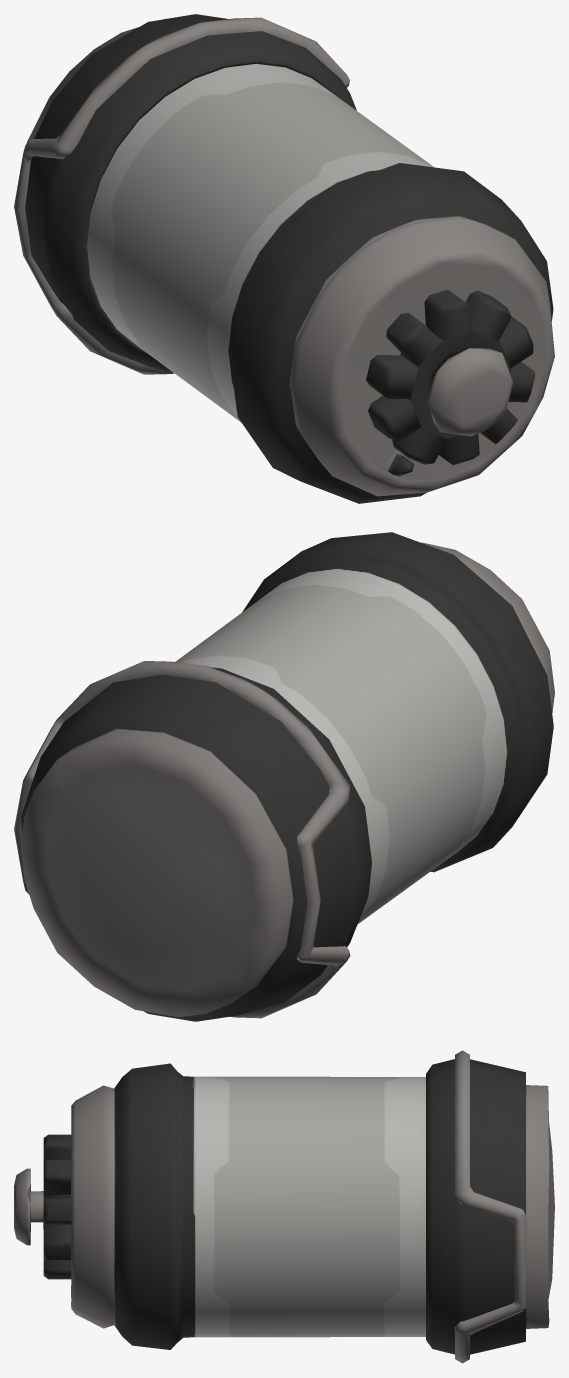
Rendered from LyraGranate.d309d05842.glb.
3 views of the same model, one above another, from view 1: azimuth 30°, elevation 25°; view 2: azimuth 150°, elevation 25°; view 3: azimuth 270°, elevation 25° (orthographic). The views are drawn at different scales.
Visible parts, largest first — view 1: Waffe_grenade; view 2: Waffe_grenade; view 3: Waffe_grenade.
Part boxes in pixels (x1,y1,x2,y2): Waffe_grenade: [14, 14, 554, 503]; Waffe_grenade: [14, 532, 554, 1021]; Waffe_grenade: [14, 1050, 554, 1363].
Size of the model in its own units: 0.0863 by 0.0906 by 0.1575.
1 material, 1 textured.
